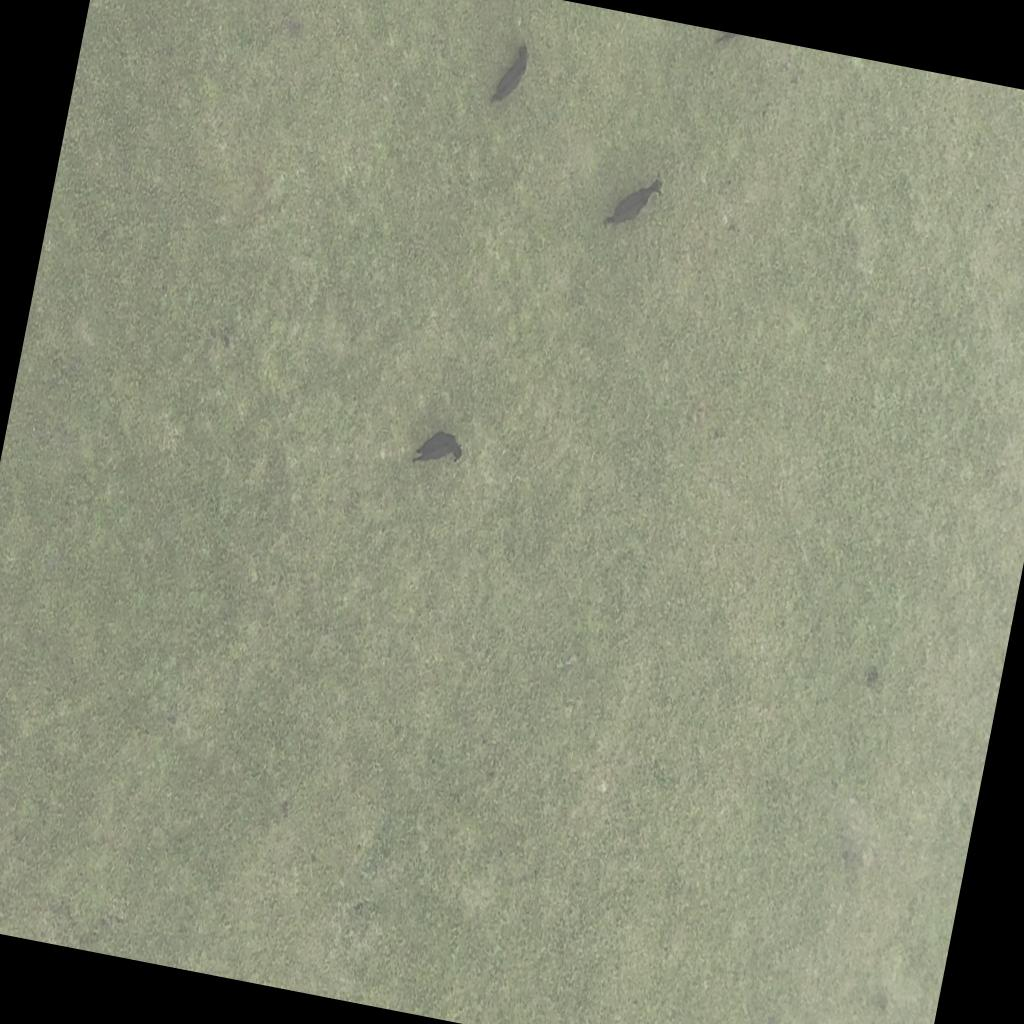cow: (603, 165, 668, 239), (486, 36, 532, 114), (410, 422, 466, 473)
